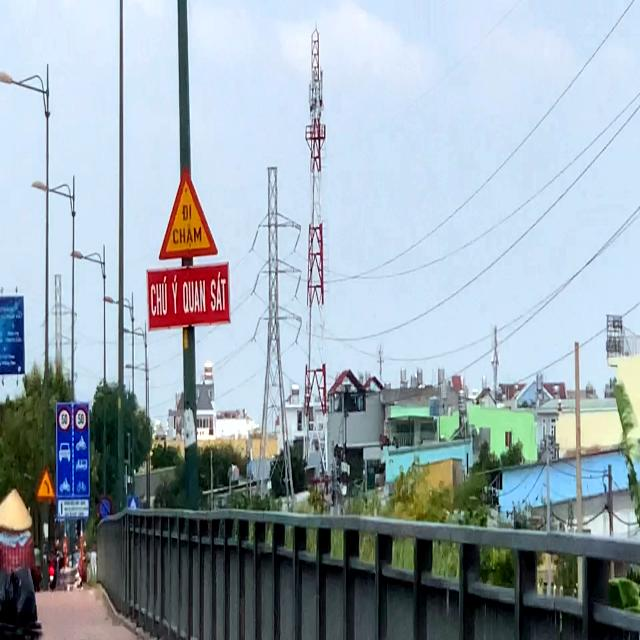P.127: (74, 406, 88, 432), (57, 408, 71, 432)
W.201a: (36, 468, 56, 500)
W.245a: (158, 165, 219, 262)
